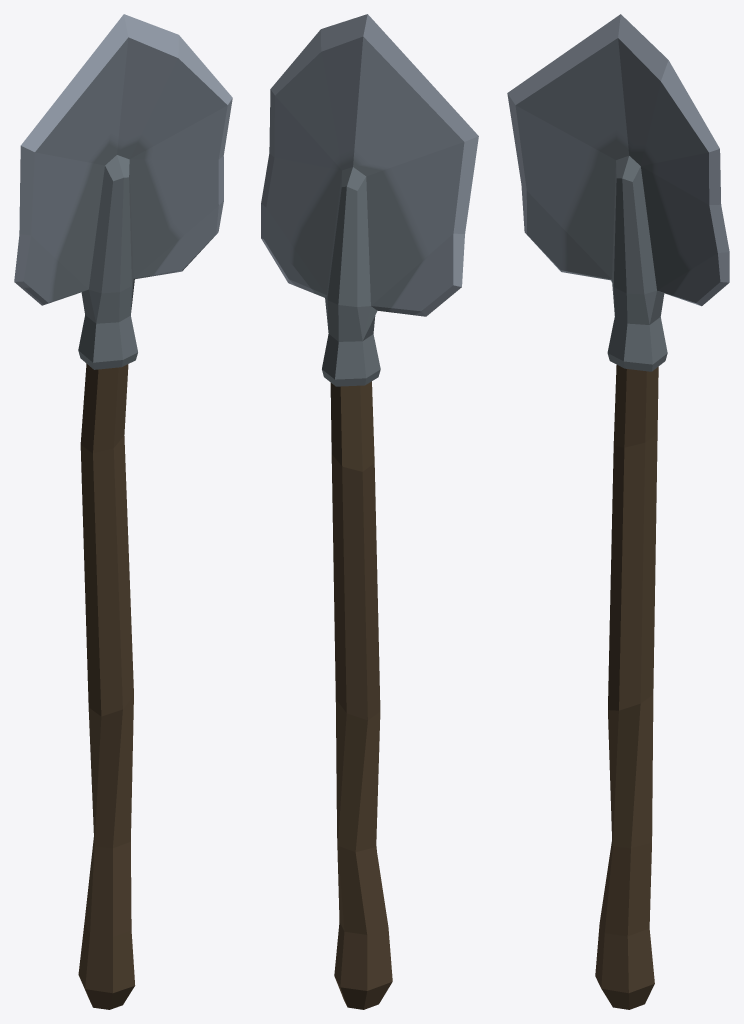
Rendered from SM_Prop_Shovel_02.fbx.
3 views of the same model, side by side, from view 1: azimuth 30°, elevation 25°; view 2: azimuth 150°, elevation 25°; view 3: azimuth 330°, elevation 25° (orthographic). The views are drawn at different scales.
Parts seen in each view (by area): view 1: SM_Prop_Shovel_02; view 2: SM_Prop_Shovel_02; view 3: SM_Prop_Shovel_02.
Part boxes in pixels (x1,y1,x2,y2): SM_Prop_Shovel_02: [14, 14, 232, 1009]; SM_Prop_Shovel_02: [261, 14, 478, 1009]; SM_Prop_Shovel_02: [507, 14, 729, 1009].
Bounding box in the file's own units: 30.08 × 135 × 9.9.
